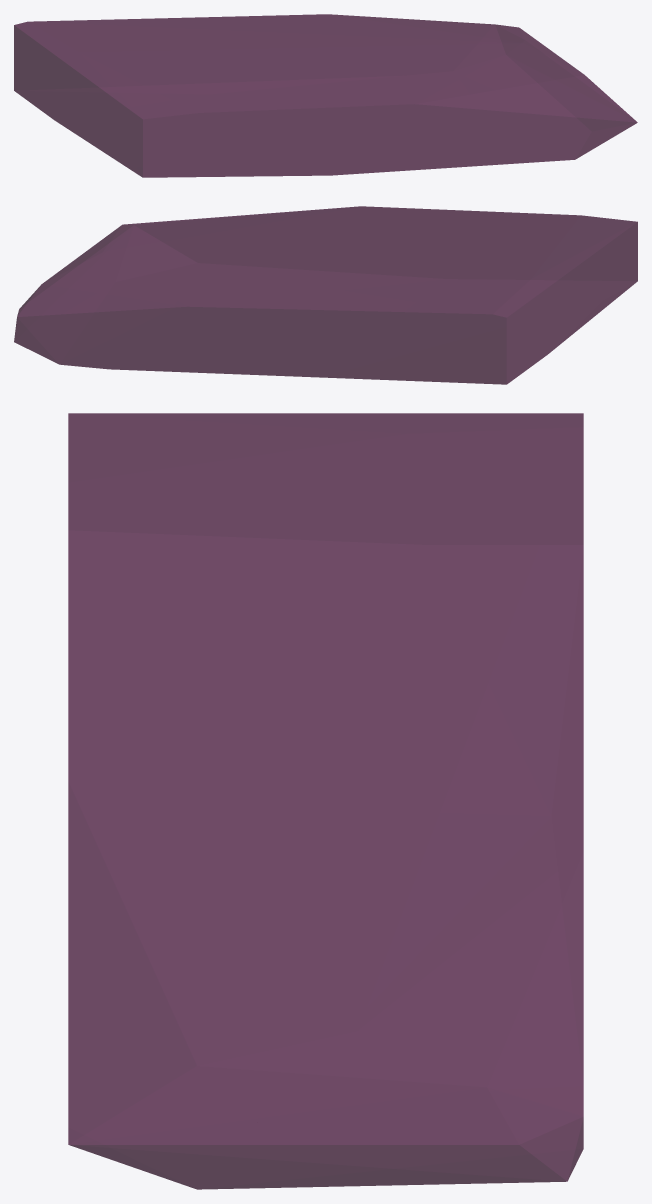
3 views of the same model, one above another, from view 1: azimuth 30°, elevation 25°; view 2: azimuth 150°, elevation 25°; view 3: azimuth 270°, elevation 25° (orthographic). The views are drawn at different scales.
Parts seen in each view (by area): view 1: Shape_IndexedFaceSet.009_Shape_IndexedFaceSet.4428; view 2: Shape_IndexedFaceSet.009_Shape_IndexedFaceSet.4428; view 3: Shape_IndexedFaceSet.009_Shape_IndexedFaceSet.4428.
Boxes of the visible parts, bbox=[...] form: Shape_IndexedFaceSet.009_Shape_IndexedFaceSet.4428: bbox=[14, 14, 637, 177]; Shape_IndexedFaceSet.009_Shape_IndexedFaceSet.4428: bbox=[14, 206, 637, 384]; Shape_IndexedFaceSet.009_Shape_IndexedFaceSet.4428: bbox=[68, 413, 583, 1189].
Size of the model in its own units: 0.0228 by 0.00673 by 0.0103.
